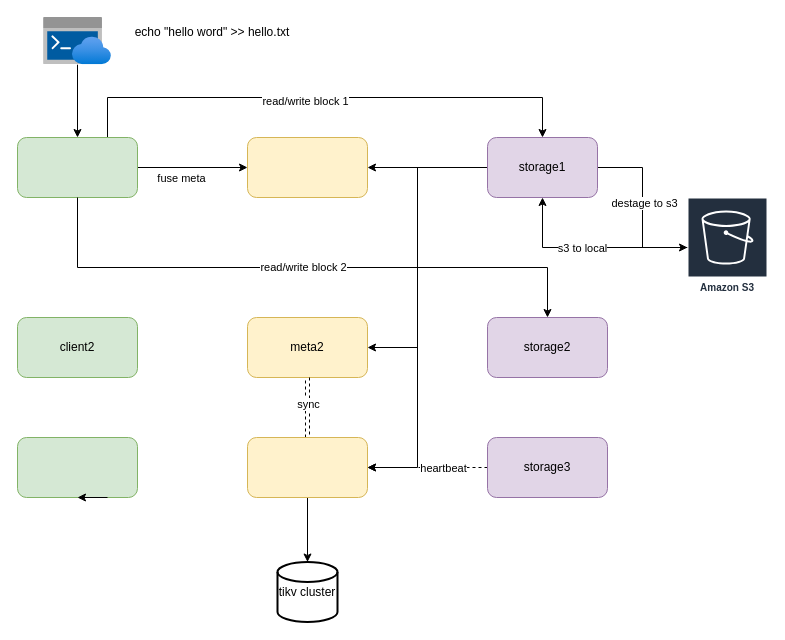
Some shapes in this 785 by 640 pixel diagram are drawn without their labels. Each missing label, with the box of its shape:
client1: (16, 136, 138, 198)
client3: (16, 436, 138, 498)
meta1: (246, 136, 368, 198)
meta3: (246, 436, 368, 498)
